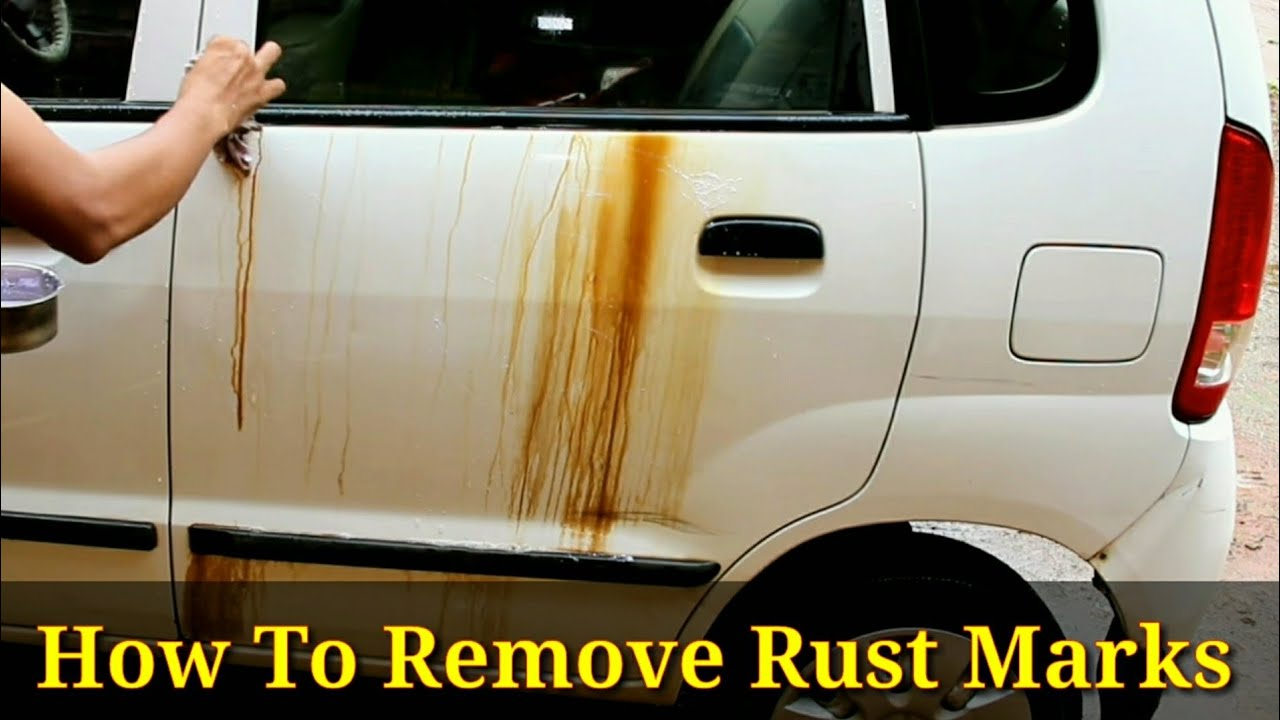rust: (549, 141, 649, 540)
